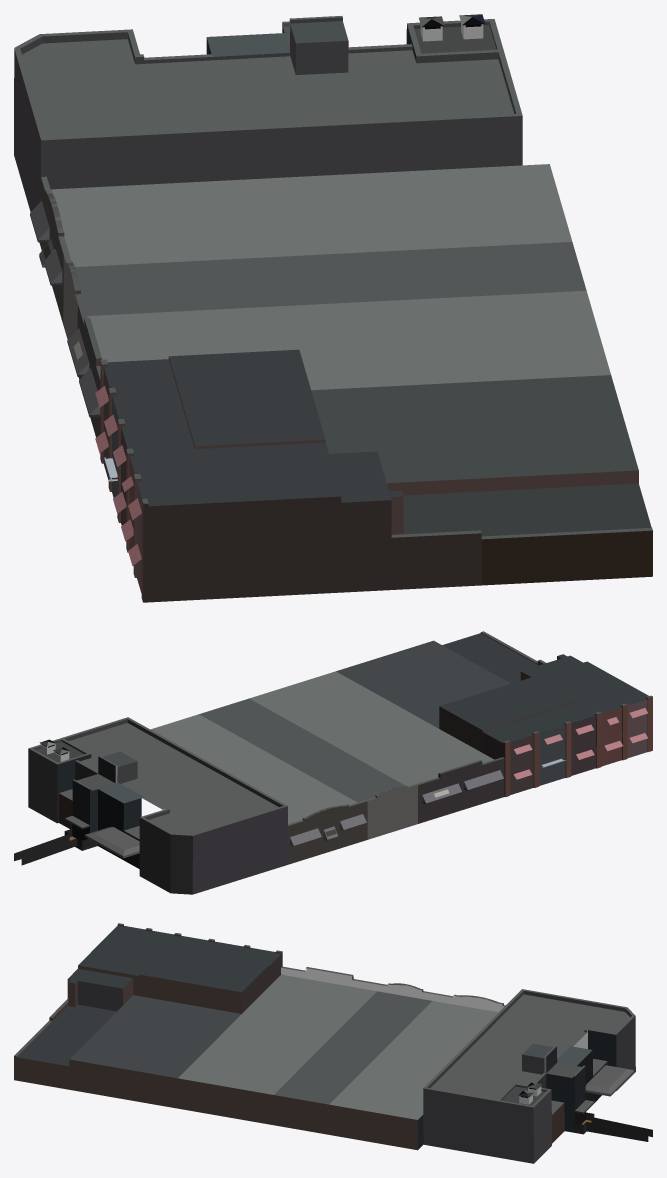
Rendered from artech-design-group-cowart-14th-st.glb.
3 views of the same model, one above another, from view 1: azimuth 30°, elevation 25°; view 2: azimuth 150°, elevation 25°; view 3: azimuth 270°, elevation 25° (orthographic). The views are drawn at different scales.
Visible parts, largest first — view 1: LOD0; view 2: LOD0; view 3: LOD0.
Part boxes in pixels (x1=…): LOD0: x1=14, y1=14, x2=652, y2=602; LOD0: x1=14, y1=631, x2=652, y2=894; LOD0: x1=14, y1=923, x2=652, y2=1163.
Size of what is drawn, in the model's own units: 67.38 by 12.13 by 95.09.
3 materials, 3 textured.
